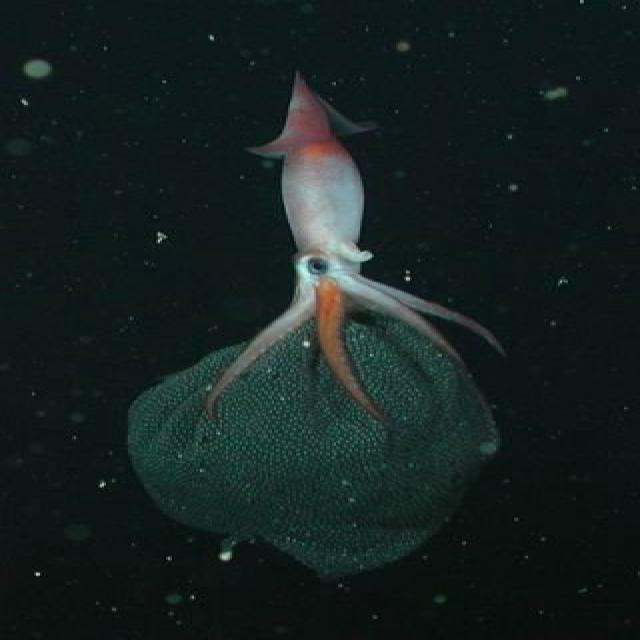squid: (206, 73, 500, 418)
